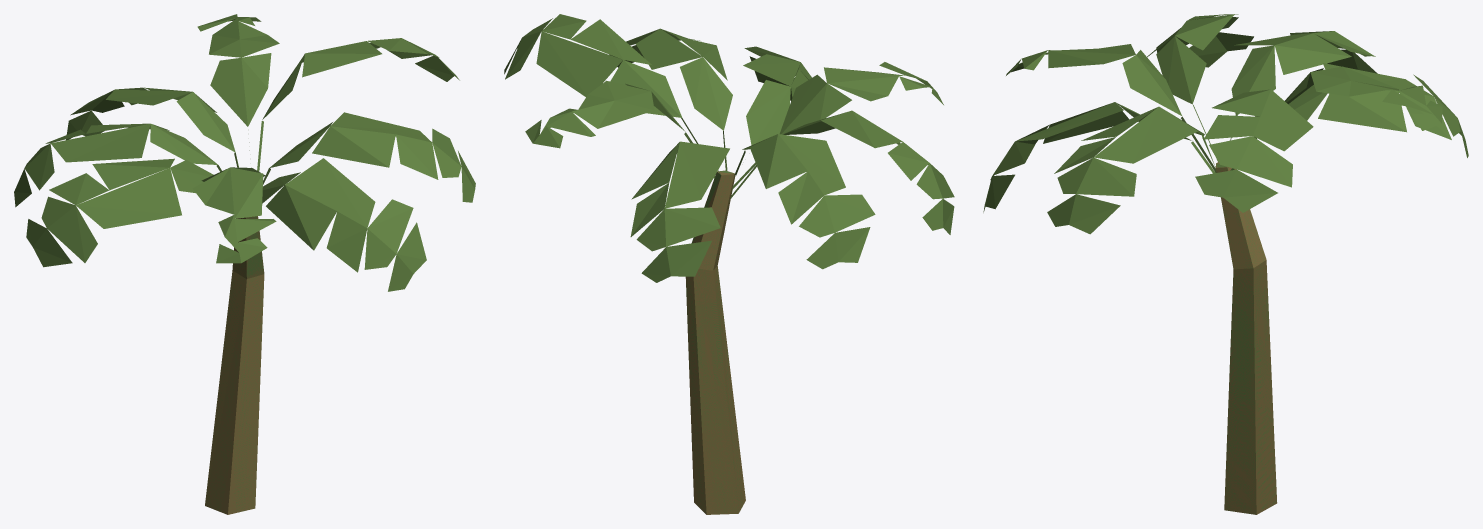
The model's file is Vegetation_Tree_Palm_02.fbx.
3 renders of one model, left to right at view 1: azimuth 30°, elevation 25°; view 2: azimuth 150°, elevation 25°; view 3: azimuth 270°, elevation 25°, orthographic. The views are drawn at different scales.
Visible parts, largest first — view 1: Vegetation_Tree_Palm_02; view 2: Vegetation_Tree_Palm_02; view 3: Vegetation_Tree_Palm_02.
Part boxes in pixels (x1,y1,x2,y2): Vegetation_Tree_Palm_02: (14,14,475,514); Vegetation_Tree_Palm_02: (504,14,954,514); Vegetation_Tree_Palm_02: (983,14,1468,514).
Bounding box in the file's own units: 4231 × 4118 × 3884.
